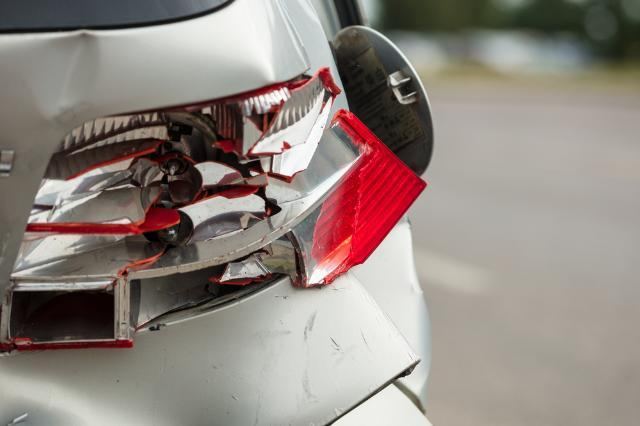dent: (25, 32, 100, 119)
lamp broken: (0, 68, 427, 354)
